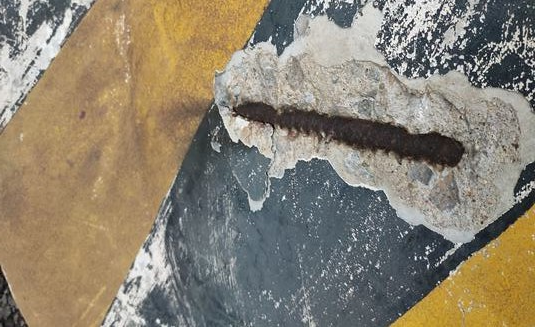Exposed reinforcement: (231, 100, 465, 168)
Spalling: (213, 1, 535, 245)
